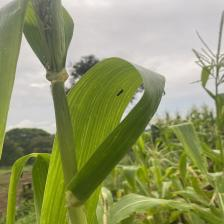unkown: (106, 87, 132, 107)
